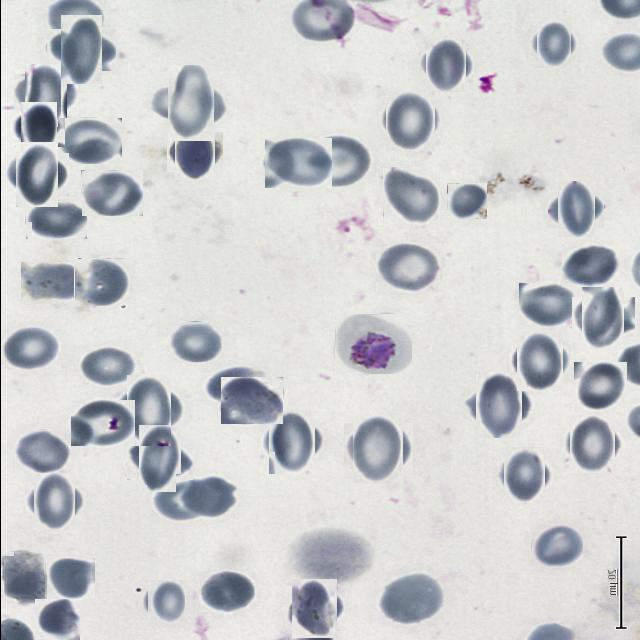red blood cell: (160, 72, 220, 134), (348, 418, 408, 478), (303, 136, 371, 188), (377, 572, 444, 624), (119, 381, 177, 439), (264, 138, 331, 188), (375, 243, 441, 292), (382, 168, 438, 224), (53, 22, 109, 78), (471, 377, 526, 433), (264, 414, 319, 469), (382, 93, 437, 148), (57, 118, 121, 164), (70, 400, 134, 446), (18, 68, 72, 122), (132, 432, 186, 486), (8, 148, 62, 202), (220, 377, 282, 424), (513, 334, 566, 388), (80, 170, 142, 216), (175, 474, 236, 519), (20, 262, 85, 304), (566, 418, 618, 470), (576, 292, 628, 344), (288, 582, 340, 634), (573, 362, 626, 412), (518, 283, 578, 327), (0, 326, 60, 370), (73, 258, 128, 306), (12, 429, 70, 473), (24, 198, 86, 239), (28, 476, 78, 526), (498, 450, 548, 500), (561, 245, 619, 287), (78, 346, 136, 387), (198, 570, 254, 612), (170, 128, 218, 176), (530, 524, 582, 567), (168, 321, 222, 362), (422, 41, 469, 88), (2, 551, 44, 603), (552, 185, 598, 232), (45, 557, 94, 599), (15, 106, 60, 151), (144, 582, 186, 626), (34, 599, 79, 640), (532, 22, 574, 64), (446, 183, 486, 219)
schizont: (334, 314, 411, 374)
